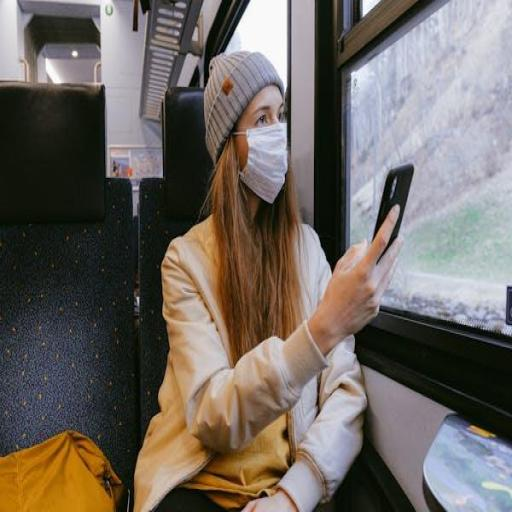mask: (202, 47, 312, 226)
